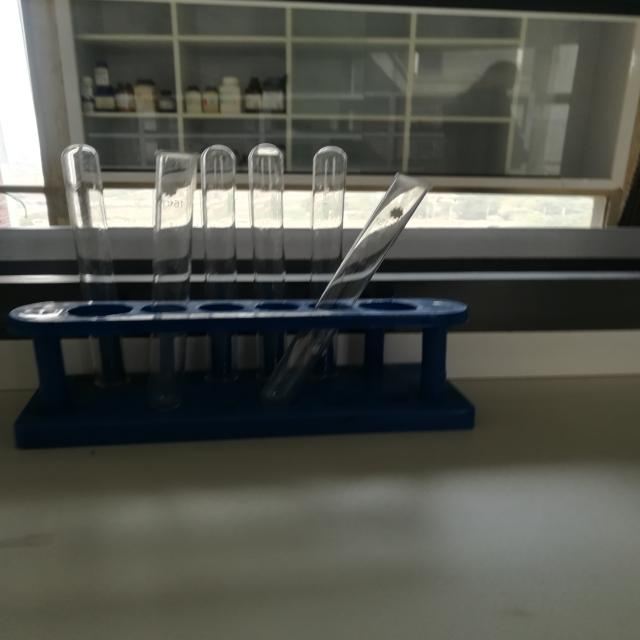Test_Tube: (13, 118, 464, 440)
